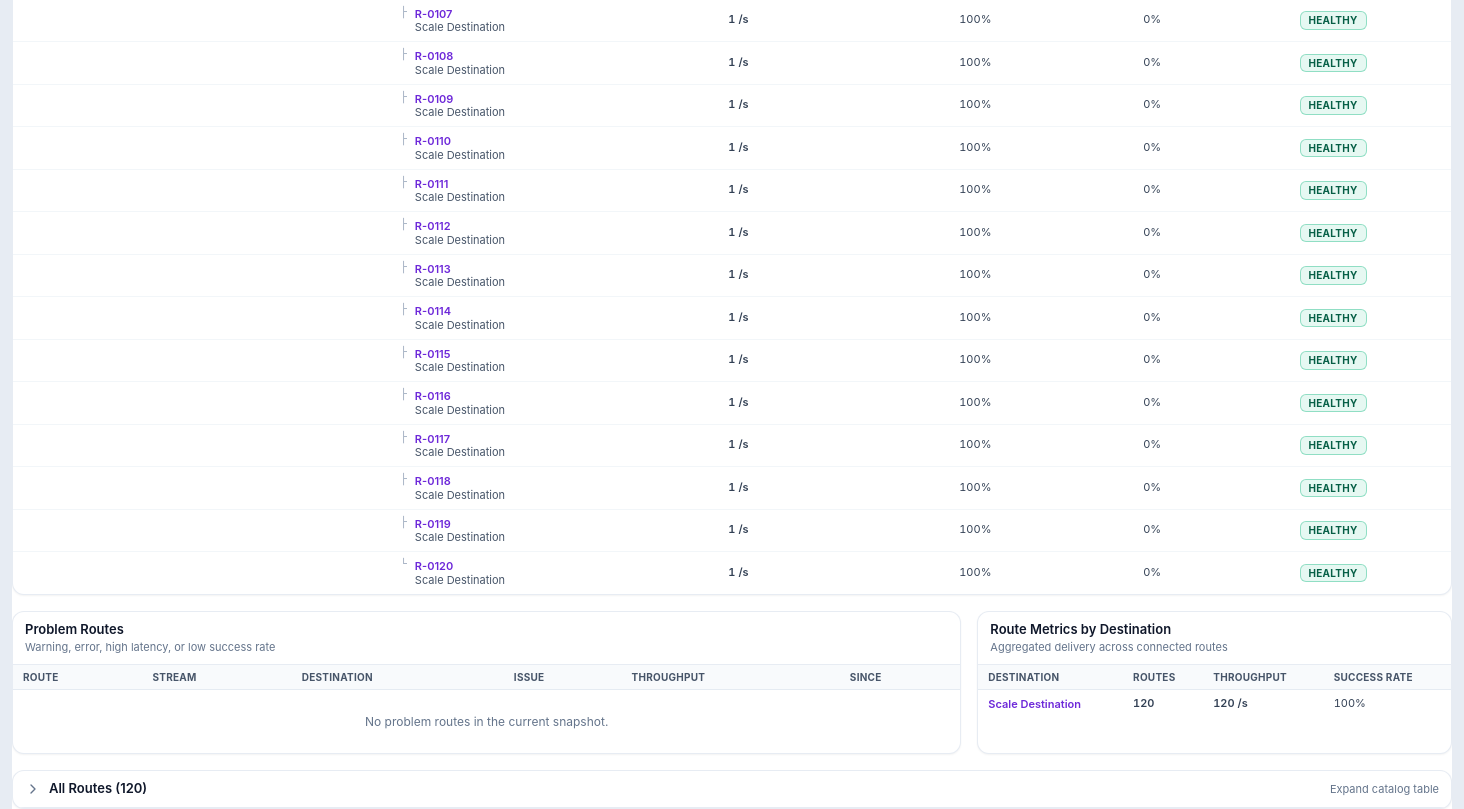
RoutesOverviewPage virtualization › mounts a virtual window of route rows, not the full filtered set
(page scrolled)
Step 1. Click the button "All Routes (120) Expand catalog table" → (85, 788), box [13,771,1451,808]
(page scrolled)
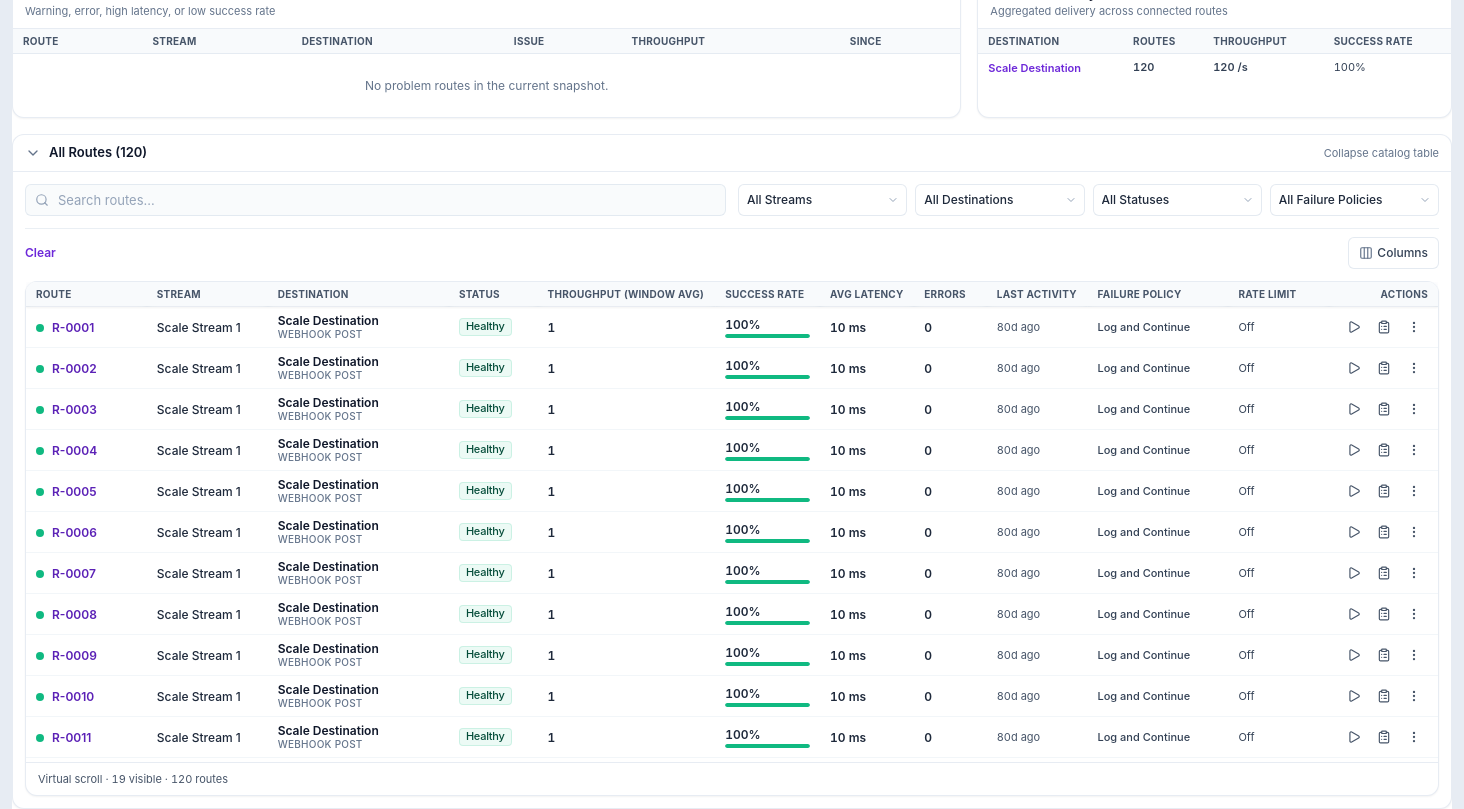
Now the element with test id "routes-virtual-scroll" is shown, box [26,282,1438,762]
Now the row with test id "^routes-table-row-" is shown, box [26,306,1438,348]
